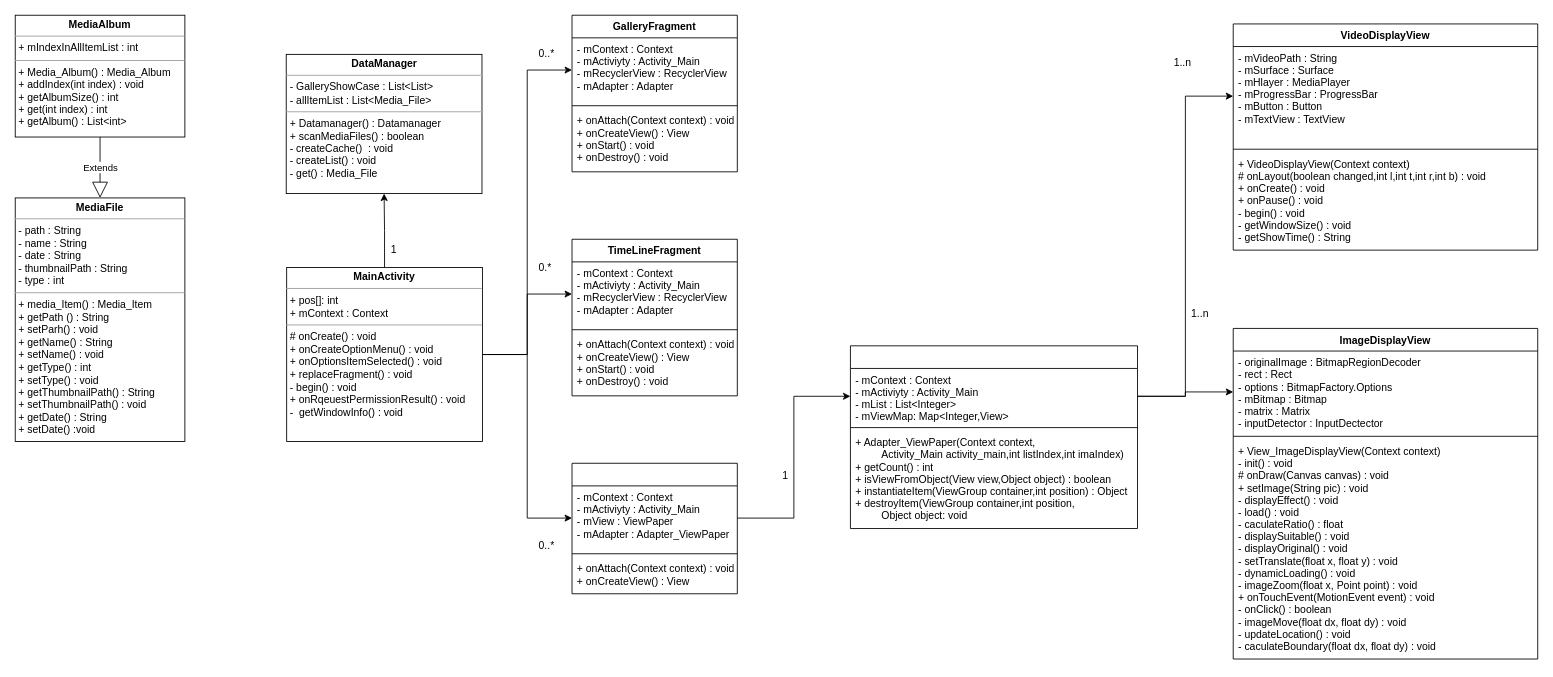
Image size: 1553x677. Some labels were removed from this diagram. The shapes that lost their labels are listed below. From the top down, each one's box as (x1, y1, x2, y2) in pixels, then its label:
(850, 345, 1138, 529): ViewPagerAdapter
(571, 462, 737, 594): ViewPaperFragment
